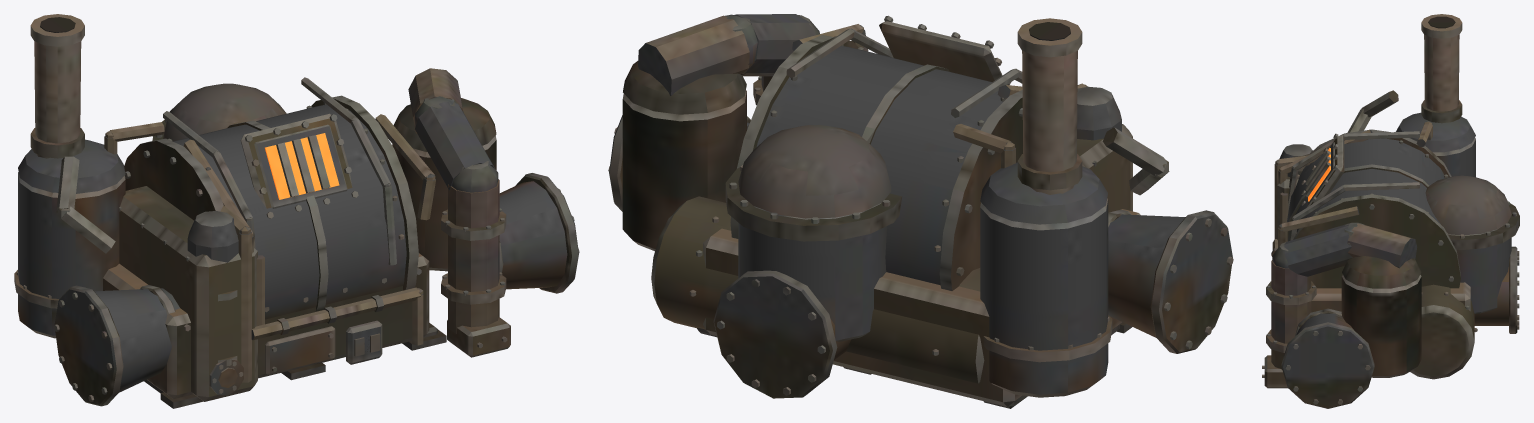
File: boiler.glb
3 renders of one model, left to right at view 1: azimuth 30°, elevation 25°; view 2: azimuth 150°, elevation 25°; view 3: azimuth 270°, elevation 25°, orthographic. The views are drawn at different scales.
Parts seen in each view (by area): view 1: body; view 2: body; view 3: body.
Boxes of the visible parts, bbox=[...] form: body: bbox=[14, 14, 579, 408]; body: bbox=[608, 14, 1233, 408]; body: bbox=[1262, 14, 1519, 408].
Size of the model in its own units: 2.99 by 1.96 by 1.88.
2 materials, 2 textured.
